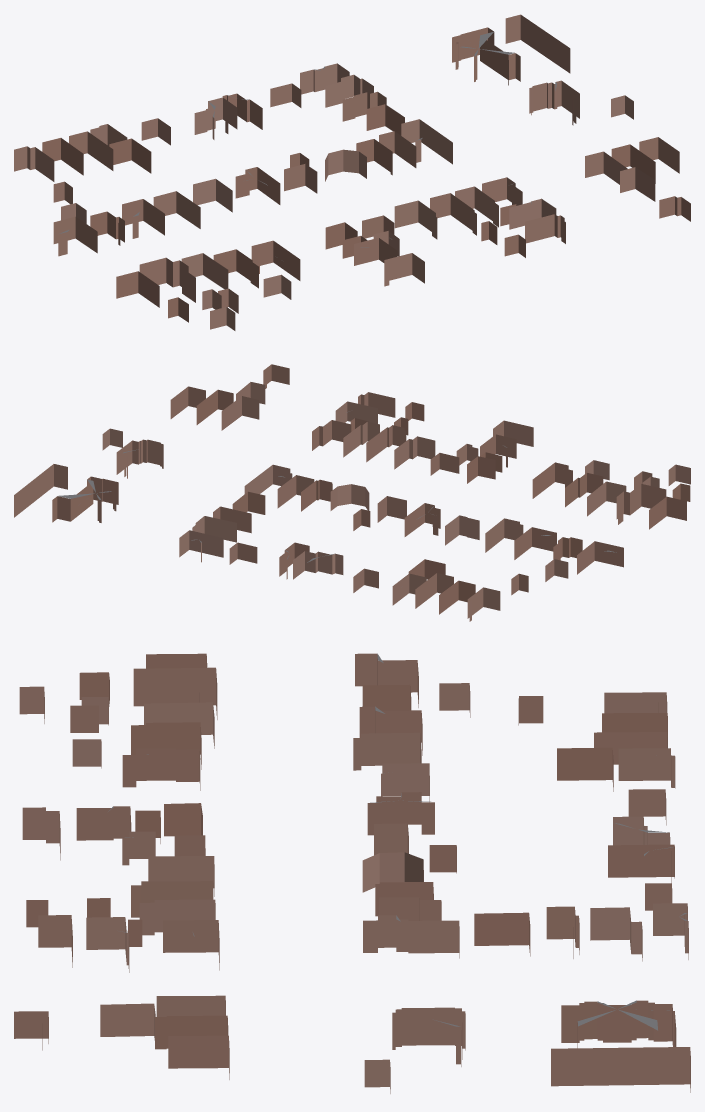
Rendered from c_1641_17827_buildings_residential.glb.
3 renders of one model, top to bottom at view 1: azimuth 30°, elevation 25°; view 2: azimuth 150°, elevation 25°; view 3: azimuth 270°, elevation 25°, orthographic. The views are drawn at different scales.
Visible parts, largest first — view 1: geometry_0; view 2: geometry_0; view 3: geometry_0.
Boxes of the visible parts, x1,y1,x2,y2 form: geometry_0: [14, 14, 690, 330]; geometry_0: [14, 364, 690, 621]; geometry_0: [14, 653, 690, 1093].
Bounding box in the file's own units: 259 × 11.08 × 180.
